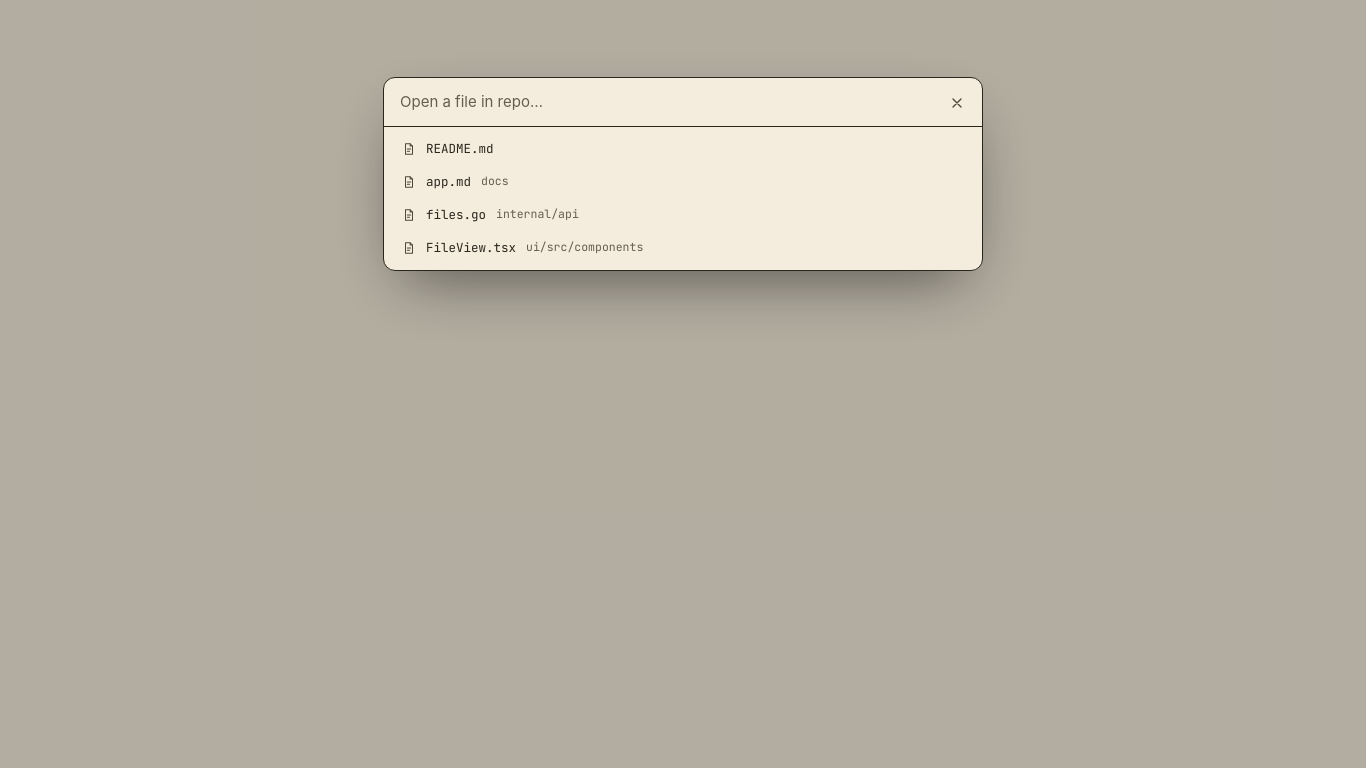
Test case: Open file… › says when nothing matches
Expected: the text "README.md" is shown, [426,140,494,158]
Type "zzz" into the dropdown named "File name" at (667, 102), box [400,78,934,126]
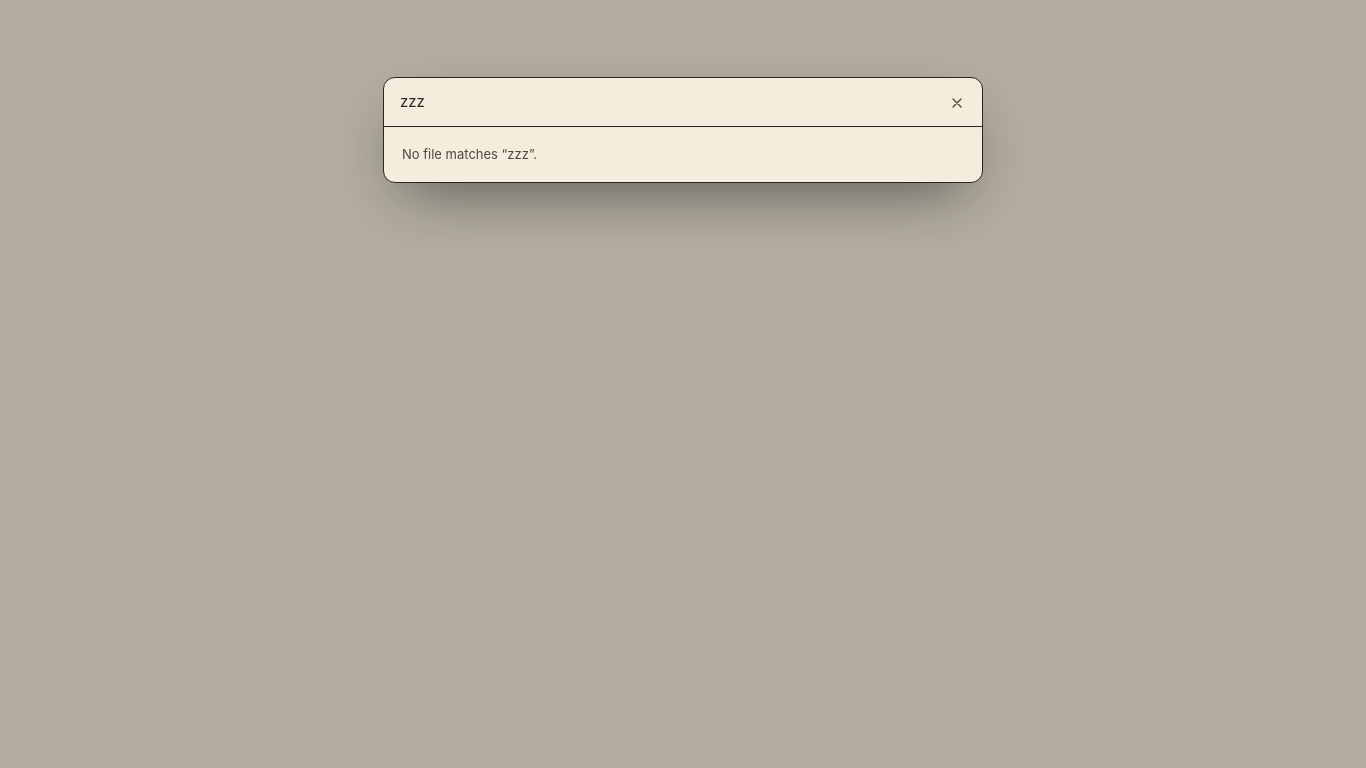
Expected: the list item "No file matches “zzz”." is shown, [402,146,537,162]
